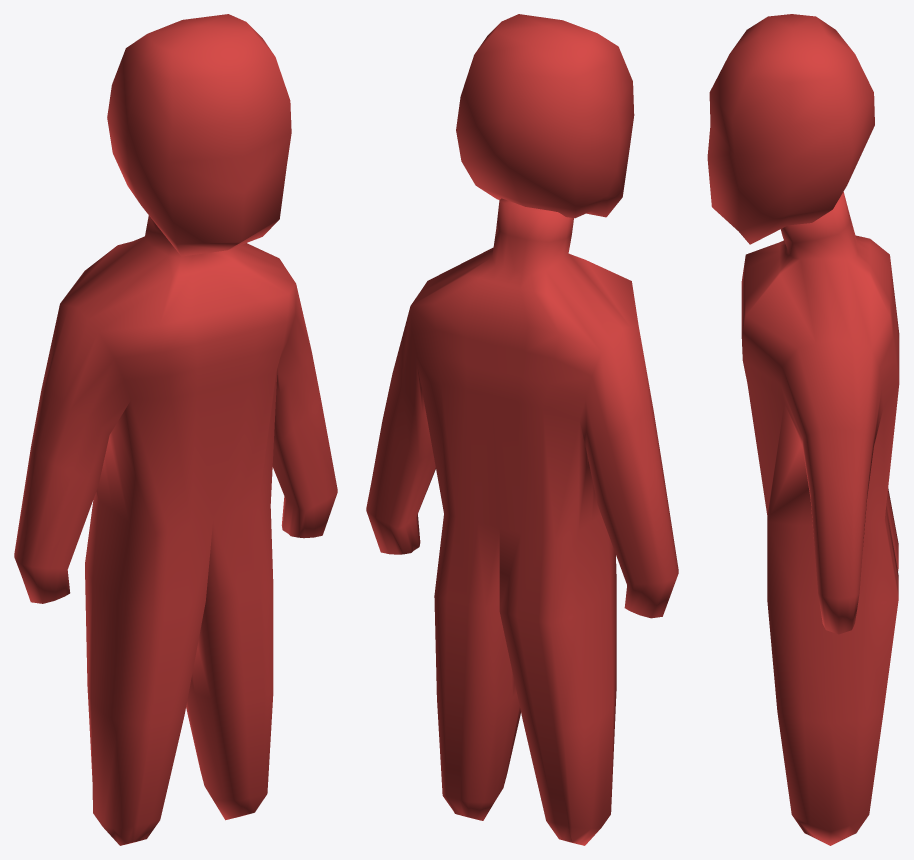
File: omino_ref_quick.fbx
3 renders of one model, left to right at view 1: azimuth 30°, elevation 25°; view 2: azimuth 150°, elevation 25°; view 3: azimuth 270°, elevation 25°, orthographic. The views are drawn at different scales.
Parts seen in each view (by area): view 1: personaggio_aggio; view 2: personaggio_aggio; view 3: personaggio_aggio.
Boxes of the visible parts, <box> form: personaggio_aggio: <box>14,14,337,845</box>; personaggio_aggio: <box>366,14,678,845</box>; personaggio_aggio: <box>707,14,899,845</box>.
Bounding box in the file's own units: 124 × 304 × 67.09.
